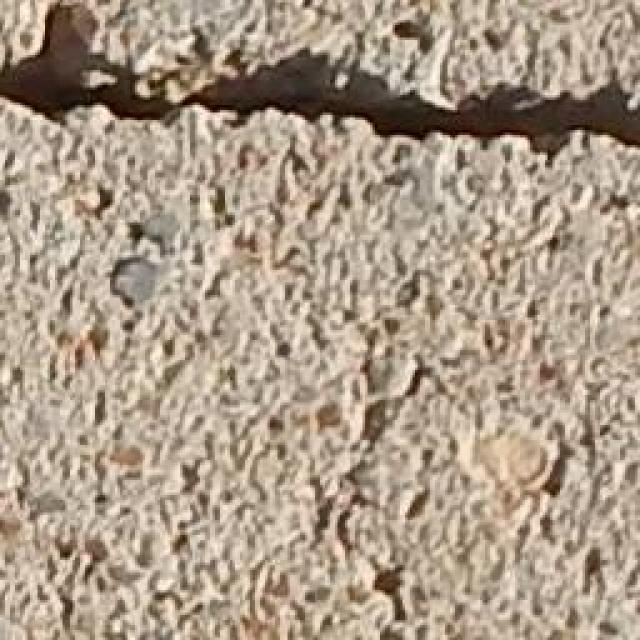concrete-crack: (0, 0, 640, 187)
